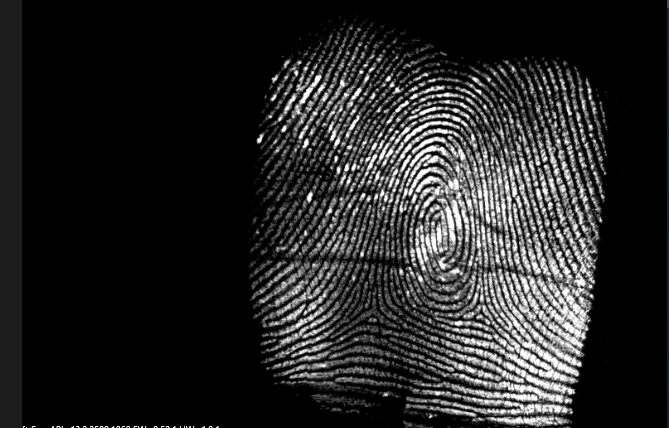deltas: (458, 284, 502, 331), (355, 289, 400, 330)
nucleo: (416, 186, 457, 241)
